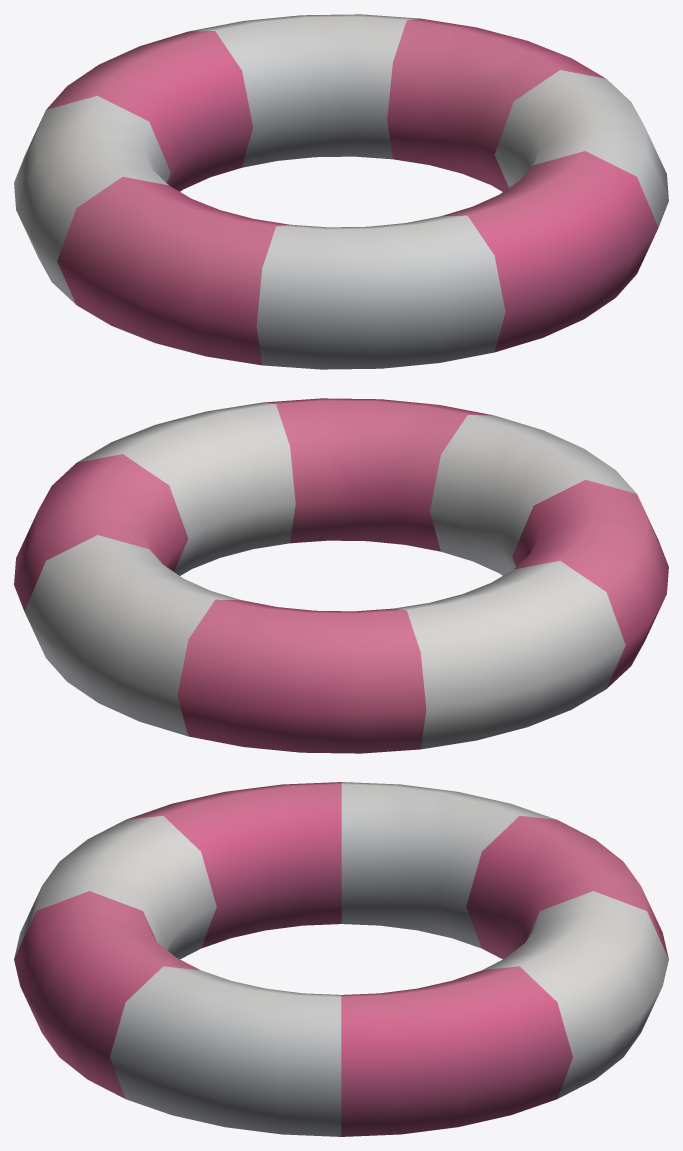
File: Floatie.fbx
The picture shows the model from 3 angles, top to bottom: view 1: azimuth 30°, elevation 25°; view 2: azimuth 150°, elevation 25°; view 3: azimuth 270°, elevation 25°; orthographic projection.
Parts seen in each view (by area): view 1: SM_Prop_Floatie; view 2: SM_Prop_Floatie; view 3: SM_Prop_Floatie.
Boxes of the visible parts, bbox=[...] form: SM_Prop_Floatie: bbox=[14, 14, 668, 369]; SM_Prop_Floatie: bbox=[14, 398, 668, 753]; SM_Prop_Floatie: bbox=[14, 782, 668, 1136].
Size of the model in its own units: 2.6 by 0.6 by 2.6.
